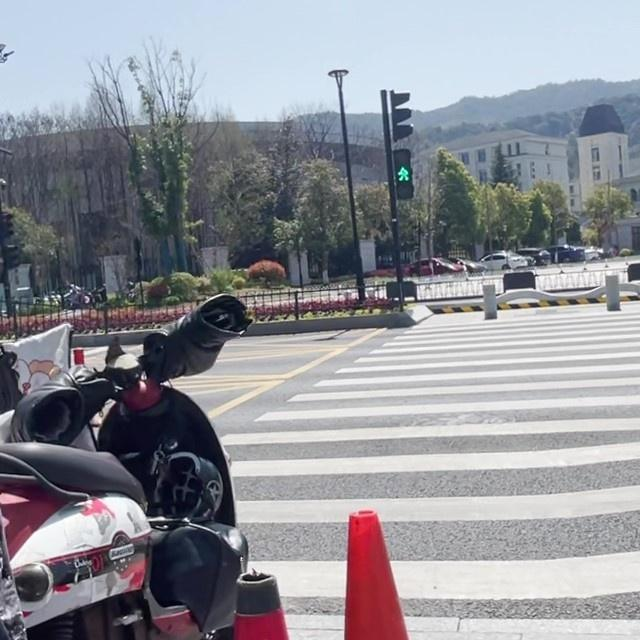curb: (246, 305, 432, 336), (499, 294, 605, 310), (73, 331, 151, 347), (429, 299, 483, 313), (620, 292, 639, 300)
